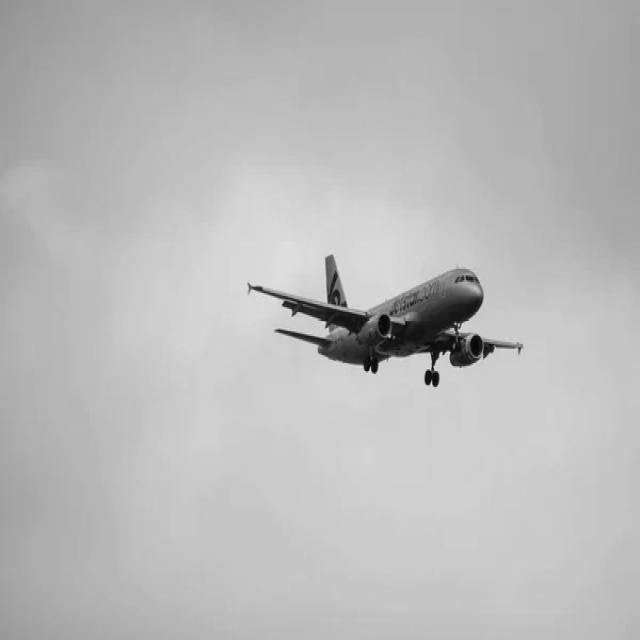Aircraft: (240, 249, 528, 394)
